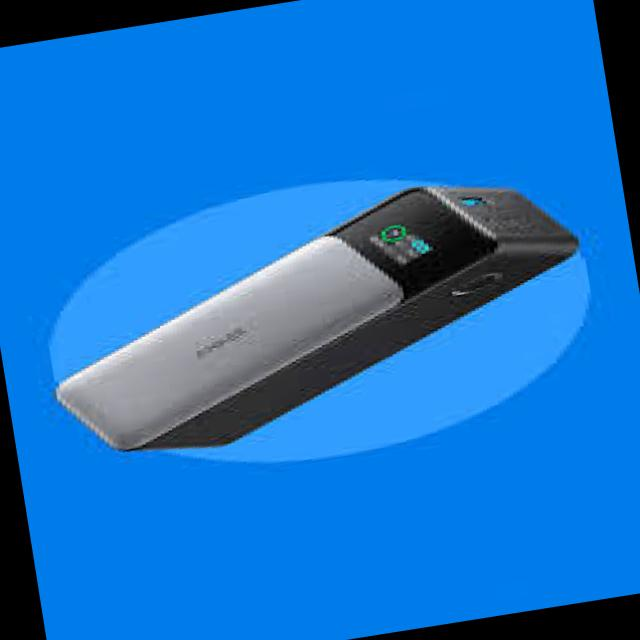portable-charger: (23, 150, 618, 468)
